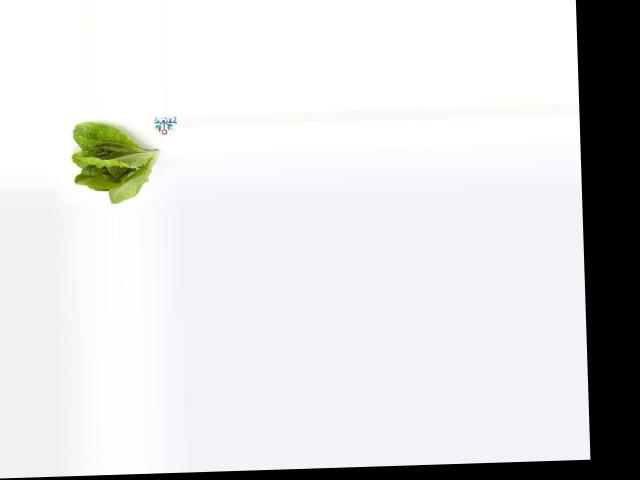lettuce: (67, 121, 161, 206)
